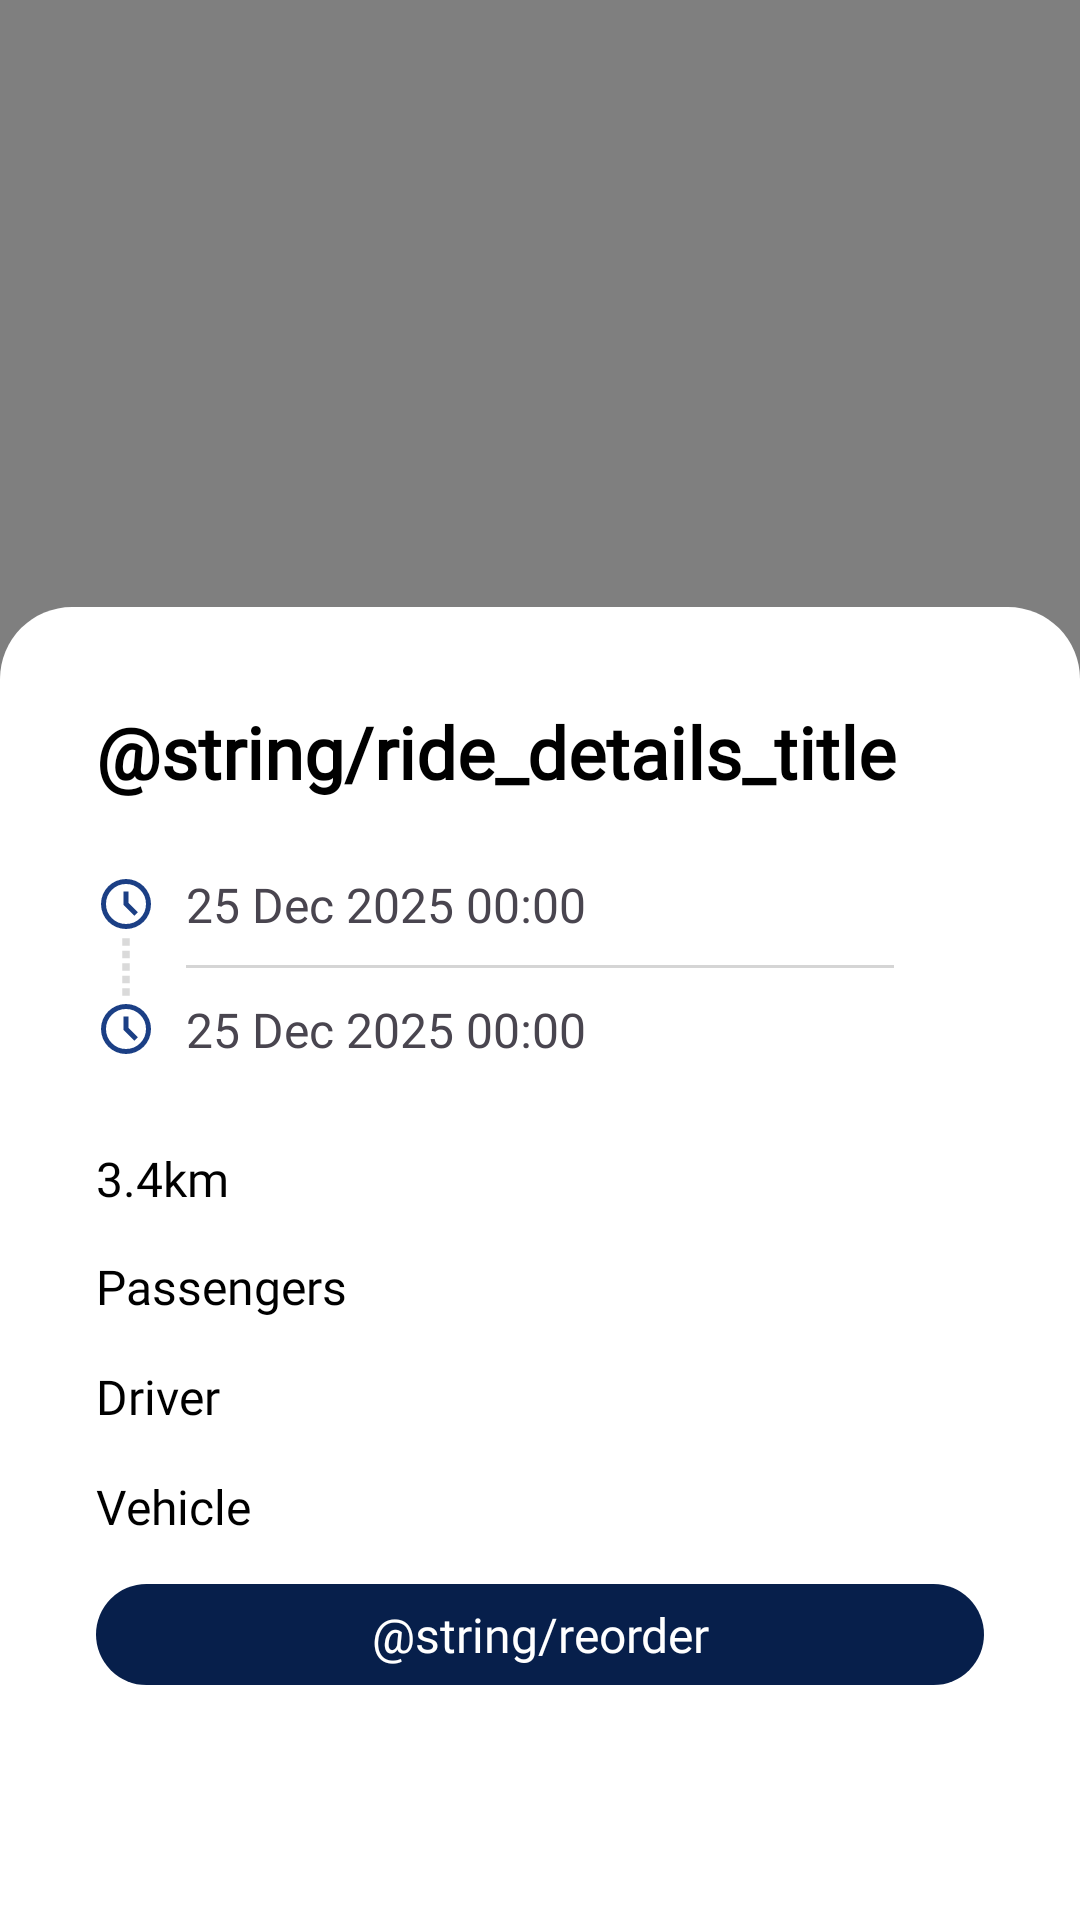

Screen size 1080 × 1920. Icon name, then its box in pixels as (left=x1, top=y1, right=x2, bottom=y2):
clock: (left=101, top=879, right=151, bottom=929), (left=101, top=1004, right=151, bottom=1054)
